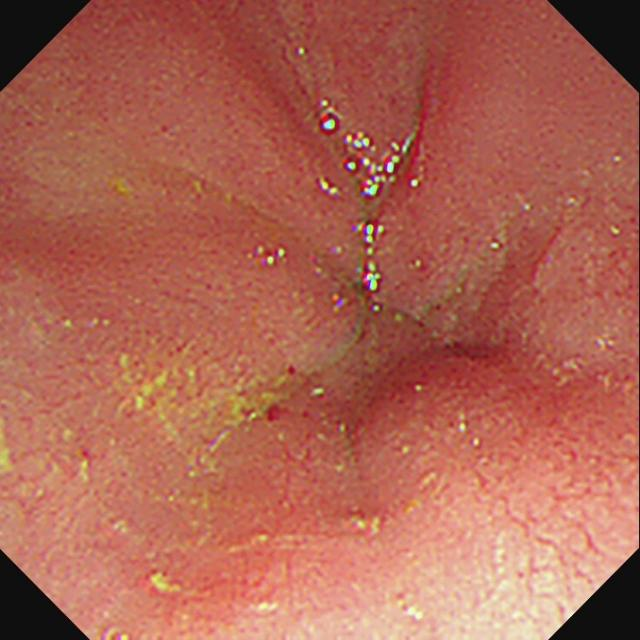J: (2, 339, 384, 598)
U: (318, 106, 422, 197), (360, 222, 386, 292)
